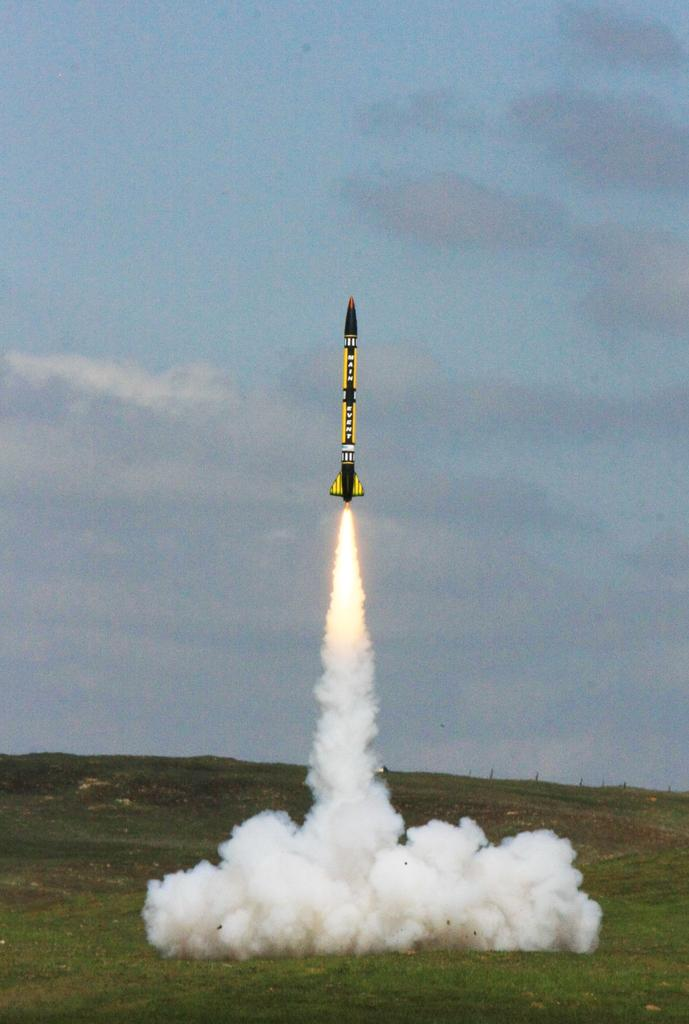Missile: (322, 294, 383, 511)
